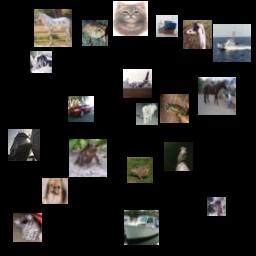airplane: (123, 69, 152, 98)
automobile: (68, 96, 94, 122)
bird: (164, 142, 193, 171), (183, 20, 212, 49), (127, 157, 153, 183), (207, 197, 226, 216)
cat: (113, 1, 148, 36), (13, 213, 42, 242), (30, 51, 52, 73)
dog: (42, 178, 68, 204), (136, 103, 158, 125)
frog: (69, 139, 107, 177), (160, 94, 189, 123), (82, 20, 108, 46)
ship: (213, 24, 251, 62), (124, 210, 159, 245), (8, 129, 40, 161), (156, 15, 178, 37)
